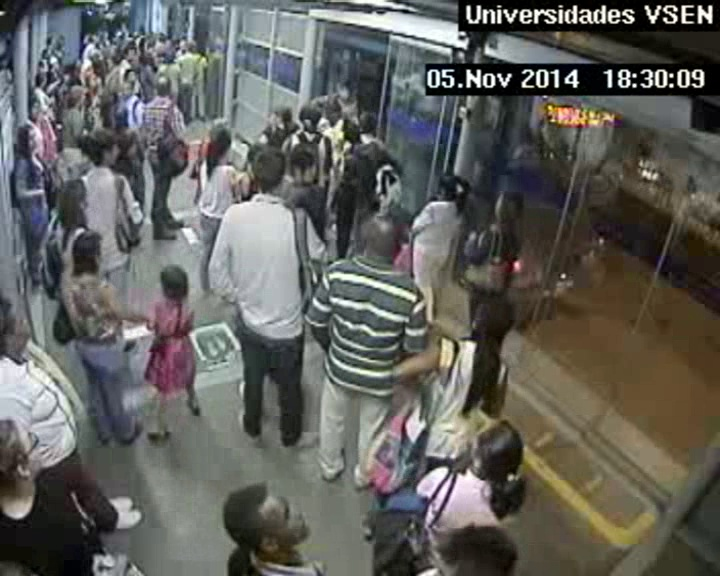person: (222, 483, 306, 562), (470, 416, 531, 485), (1, 422, 60, 488), (1, 303, 46, 356), (469, 295, 516, 343), (358, 211, 403, 258), (84, 129, 120, 172), (72, 231, 110, 268), (252, 148, 288, 187), (56, 179, 89, 216), (204, 123, 237, 159), (287, 146, 319, 181), (155, 264, 188, 297), (435, 172, 464, 205), (495, 191, 525, 221), (16, 124, 44, 154), (300, 107, 321, 130), (90, 96, 111, 117), (359, 112, 378, 133), (342, 119, 361, 140), (27, 99, 45, 119), (274, 107, 292, 125), (157, 76, 174, 94), (113, 107, 130, 125), (338, 82, 356, 99), (122, 81, 137, 96), (36, 72, 51, 87), (87, 52, 100, 66), (126, 43, 139, 56), (327, 105, 340, 118), (328, 114, 341, 127), (124, 69, 138, 81), (131, 56, 143, 69), (163, 51, 175, 63), (145, 53, 156, 66), (111, 51, 122, 62), (68, 99, 79, 110), (88, 33, 98, 44), (47, 36, 57, 47), (95, 85, 106, 95), (58, 35, 68, 45), (189, 42, 199, 52), (159, 33, 169, 43), (65, 82, 75, 92), (100, 20, 109, 30), (178, 38, 187, 48), (40, 50, 50, 59), (62, 72, 71, 82), (148, 40, 157, 49), (105, 38, 114, 46), (179, 46, 187, 54), (94, 68, 102, 76), (116, 31, 124, 39), (139, 28, 146, 35), (131, 31, 138, 38), (120, 17, 126, 23)
